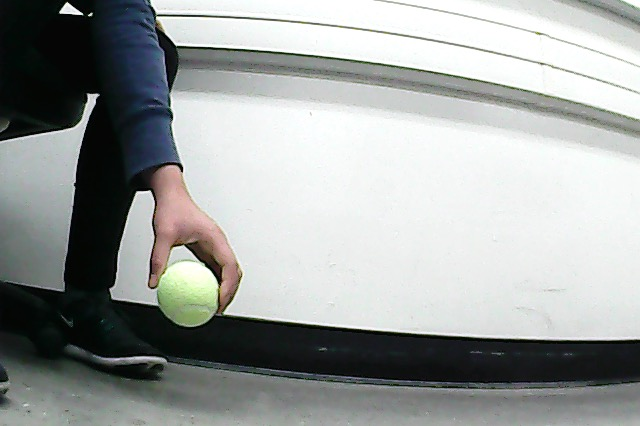ball: (153, 257, 225, 331)
